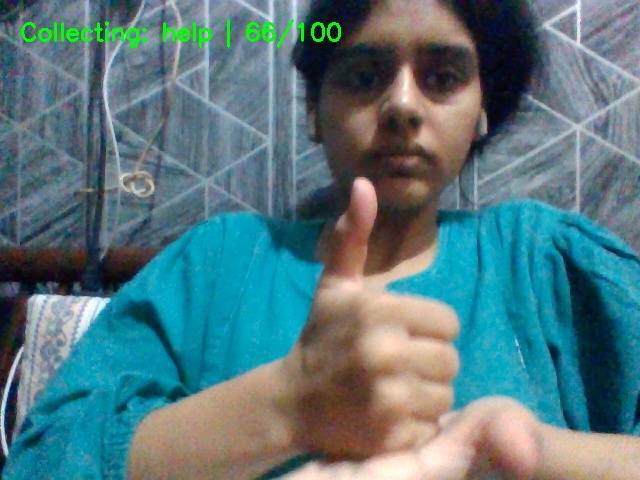help: (264, 174, 570, 480)
